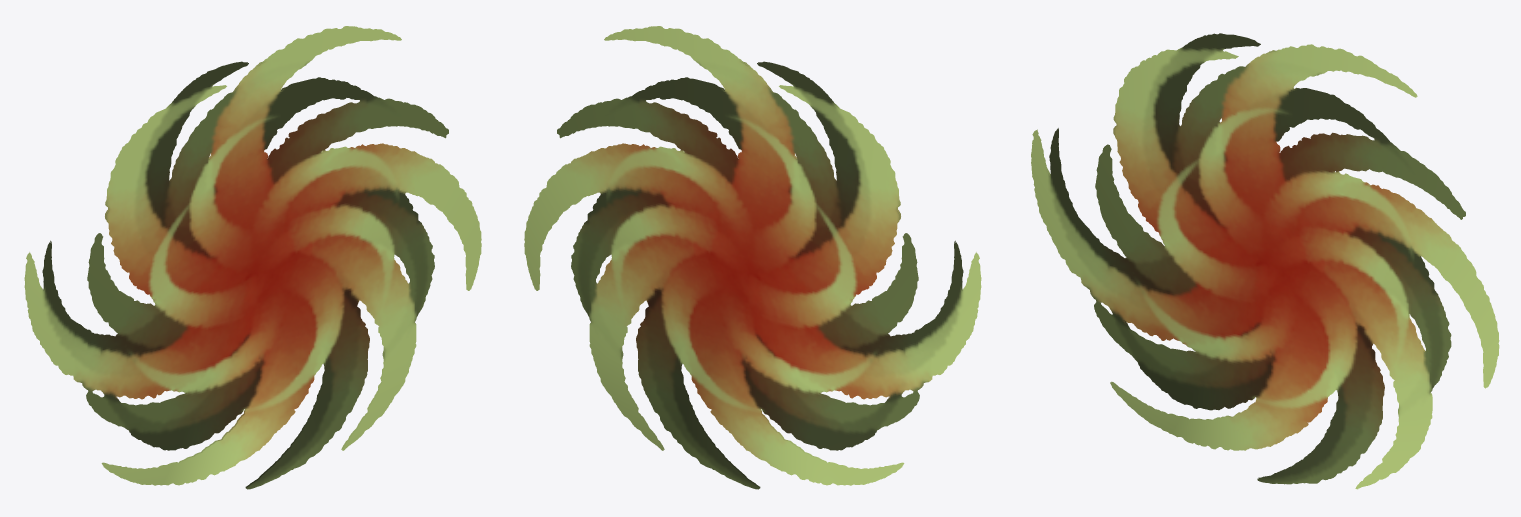
The model's file is HP3_weed061.fbx.
3 renders of one model, left to right at view 1: azimuth 30°, elevation 25°; view 2: azimuth 150°, elevation 25°; view 3: azimuth 330°, elevation 25°, orthographic. The views are drawn at different scales.
Parts seen in each view (by area): view 1: HP3_weed061; view 2: HP3_weed061; view 3: HP3_weed061.
Boxes of the visible parts, x1,y1,x2,y2 form: HP3_weed061: [24, 26, 481, 489]; HP3_weed061: [524, 26, 981, 489]; HP3_weed061: [1031, 33, 1499, 489].
Bounding box in the file's own units: 7.47 × 7.1 × 0.03.
